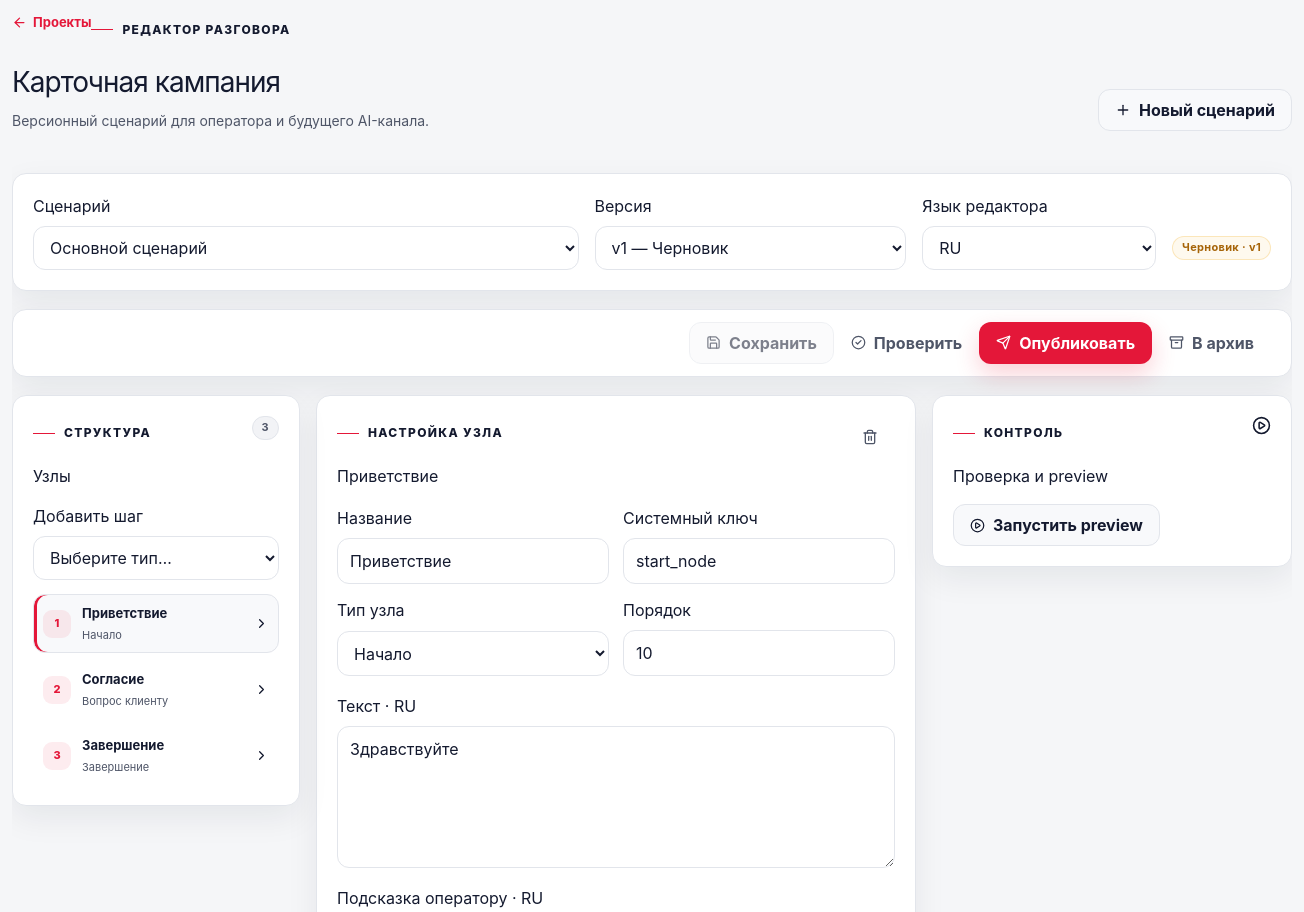
Scenario: call flow editor › lets an owner edit and save a draft with optimistic lock
This screenshot has width=1304, height=912.
Replace the text in the text box labelled "Текст · RU" with "Добрый день" at (616, 797), box [337,726,895,868]
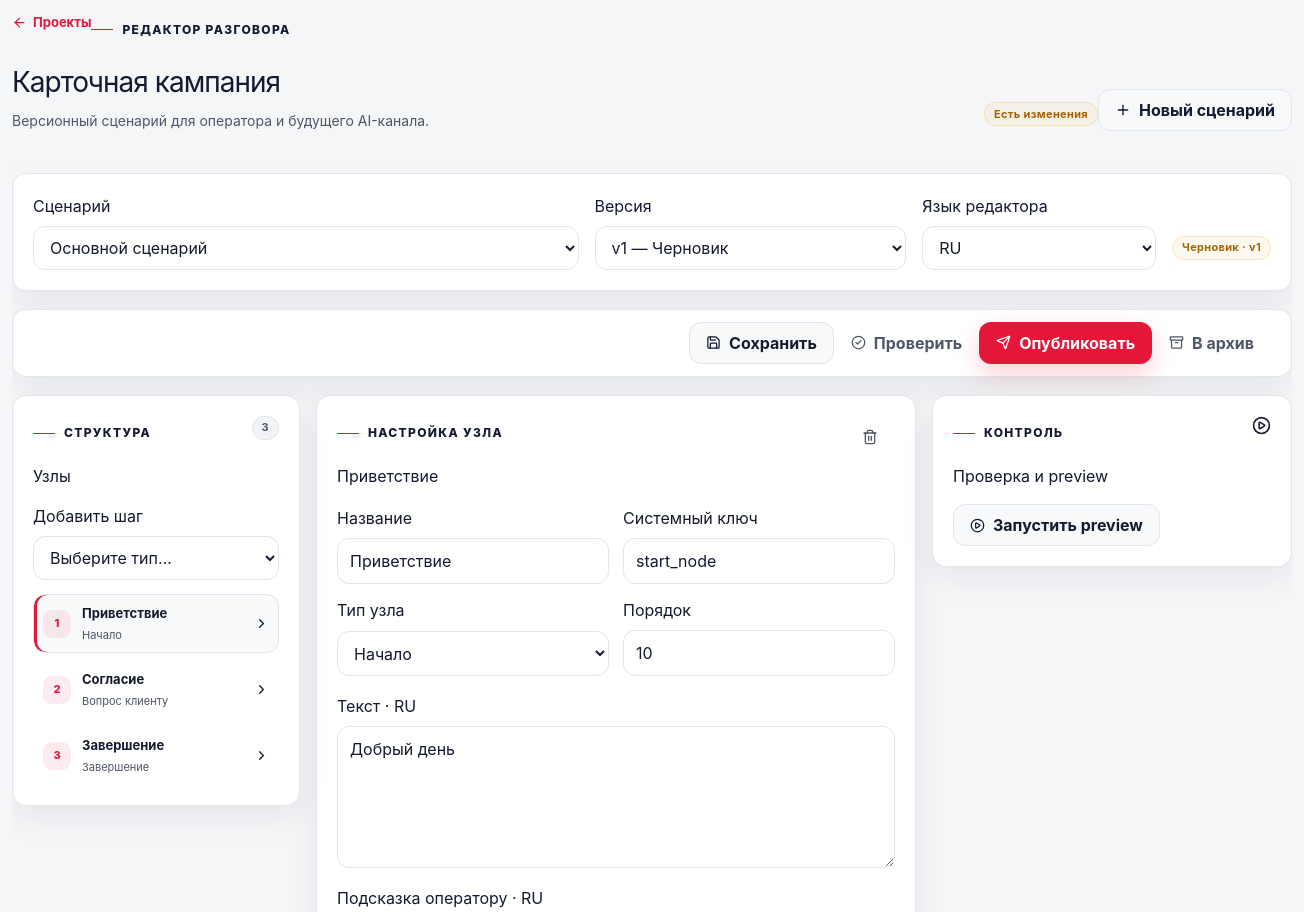
Click the button "Сохранить".
click(762, 342)  # box [689,322,834,364]
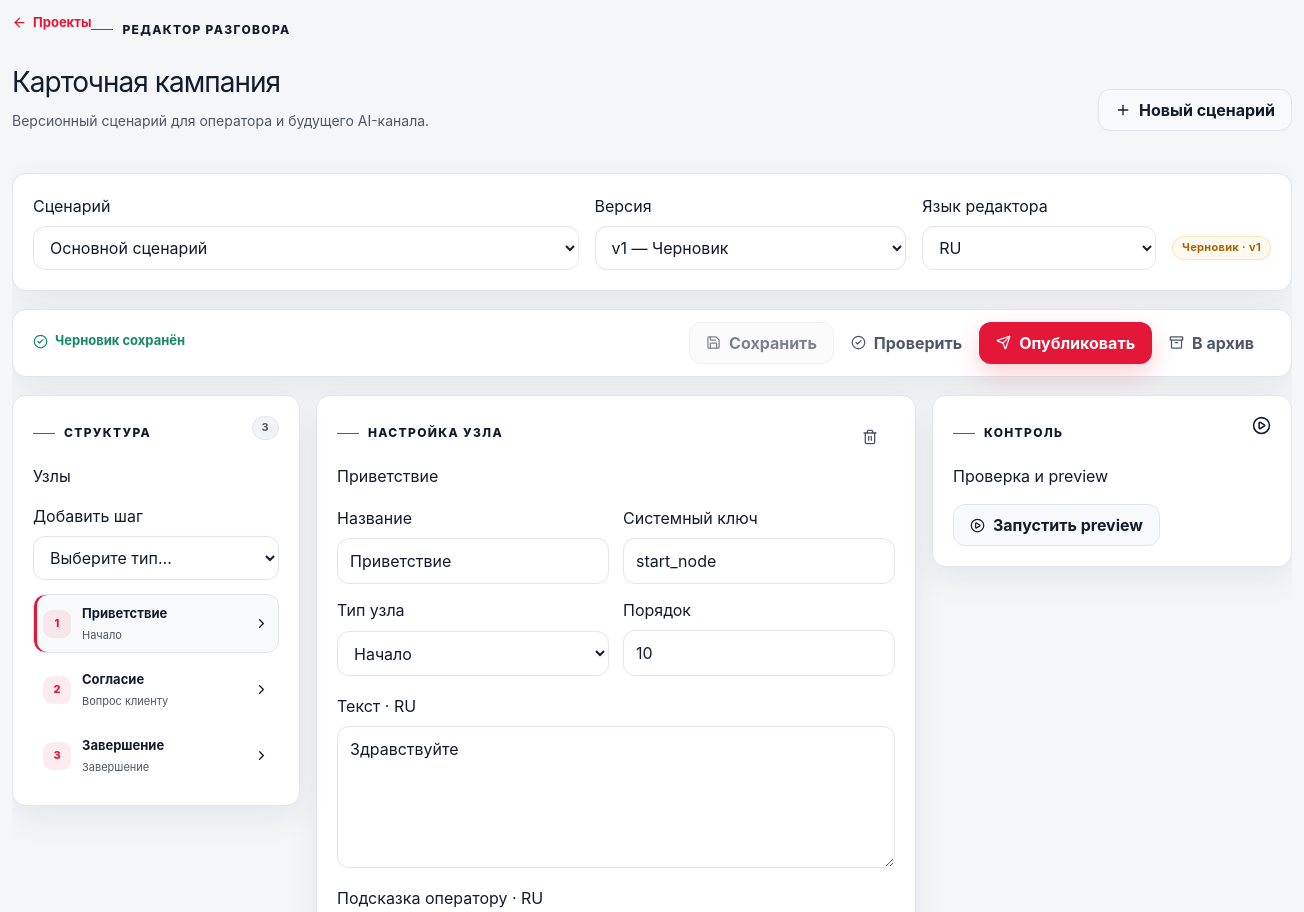
Result: the text "Черновик сохранён" is shown at [33,331,185,351]
